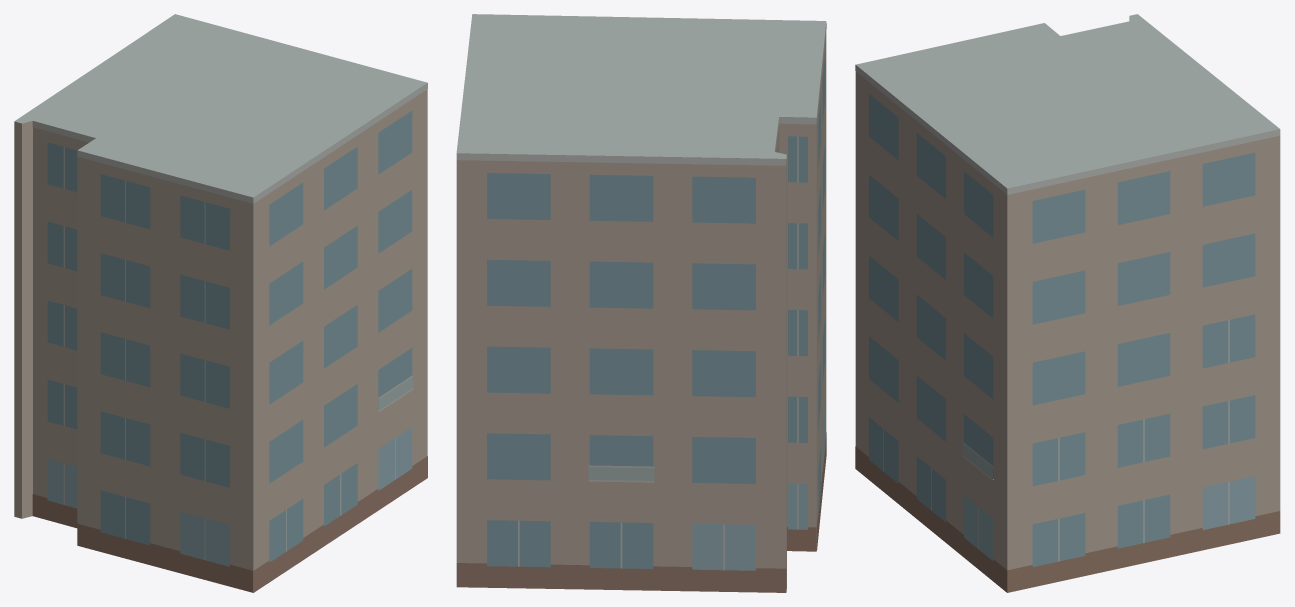
File: survey-upis-32836639.glb
The picture shows the model from 3 angles, left to right: view 1: azimuth 30°, elevation 25°; view 2: azimuth 150°, elevation 25°; view 3: azimuth 270°, elevation 25°; orthographic projection. The views are drawn at different scales.
Visible parts, largest first — view 1: survey-upis-32836639.tmp; view 2: survey-upis-32836639.tmp; view 3: survey-upis-32836639.tmp.
Boxes of the visible parts, <box> form: survey-upis-32836639.tmp: <box>14,14,427,592</box>; survey-upis-32836639.tmp: <box>456,14,826,592</box>; survey-upis-32836639.tmp: <box>855,14,1280,592</box>.
Bounding box in the file's own units: 14.27 × 15.4 × 14.68.
